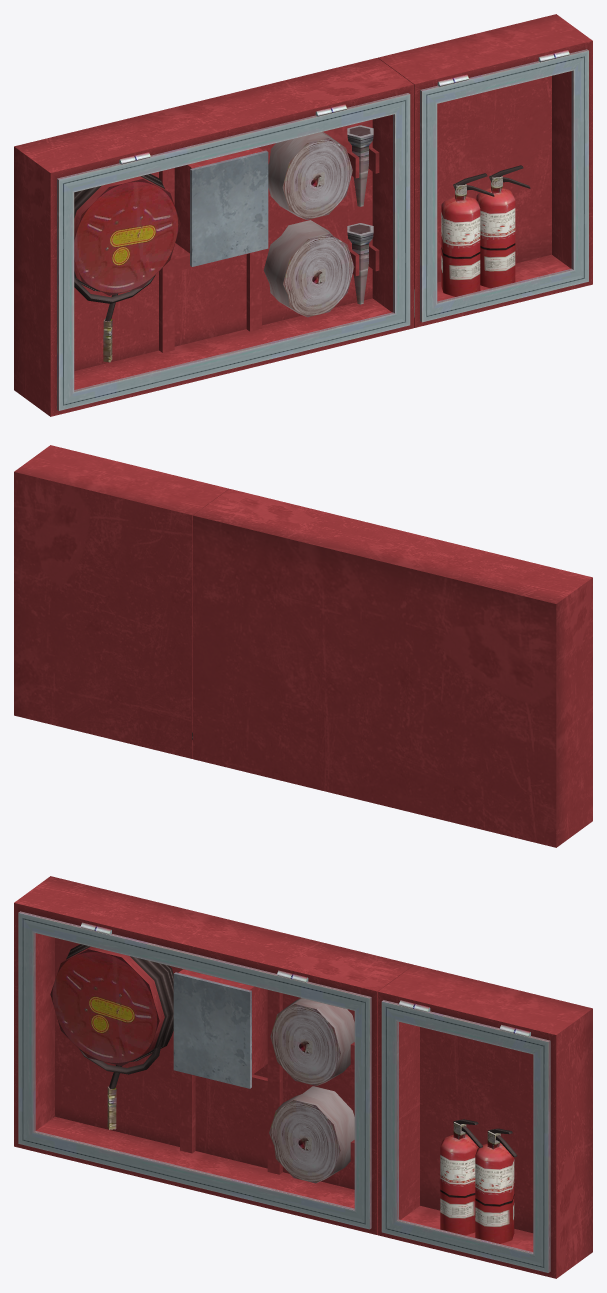
File: Extinguisher02.FBX
3 views of the same model, one above another, from view 1: azimuth 30°, elevation 25°; view 2: azimuth 150°, elevation 25°; view 3: azimuth 330°, elevation 25° (orthographic).
Parts seen in each view (by area): view 1: Extinguisher02; view 2: Extinguisher02; view 3: Extinguisher02.
Part boxes in pixels (x1=…): Extinguisher02: x1=14, y1=14, x2=592, y2=416; Extinguisher02: x1=14, y1=445, x2=592, y2=847; Extinguisher02: x1=14, y1=876, x2=592, y2=1278.
Size of the model in its own units: 92.62 by 11.54 by 39.77.
Materials: 1 (1 with a texture image).
